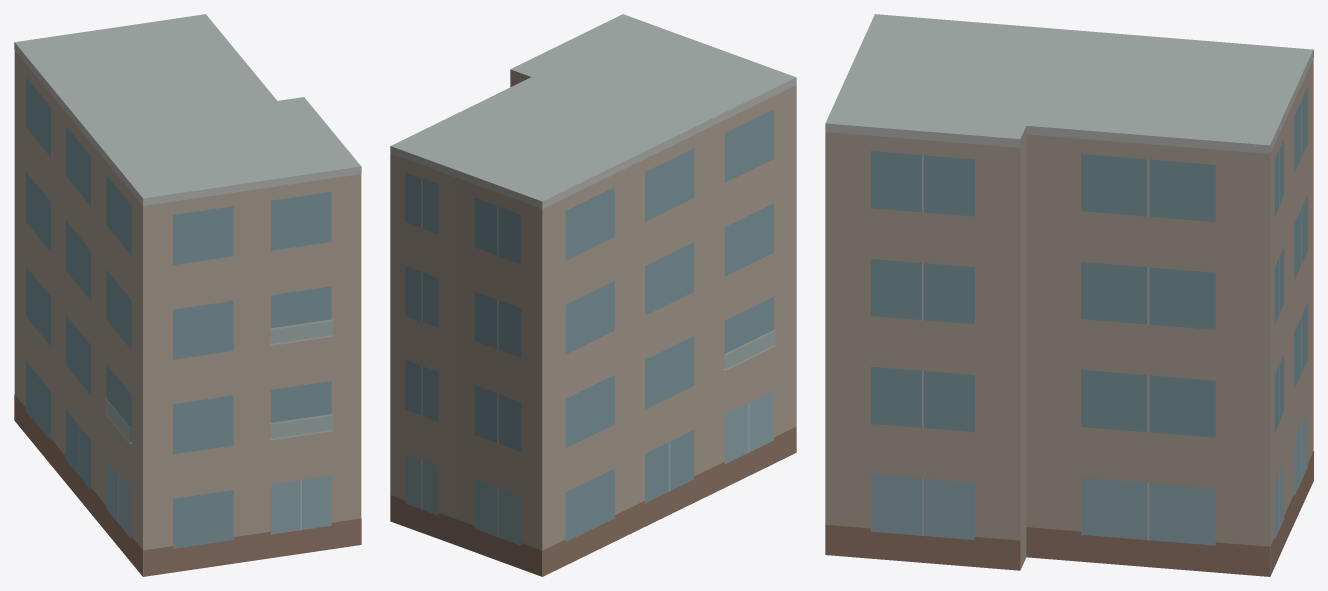
The model's file is residential-3d3bacd2-c39c-469f-9e19-05621e408045.glb.
The picture shows the model from 3 angles, left to right: view 1: azimuth 30°, elevation 25°; view 2: azimuth 150°, elevation 25°; view 3: azimuth 270°, elevation 25°; orthographic projection. The views are drawn at different scales.
Parts seen in each view (by area): view 1: residential-3d3bacd2-c39c-469f-9e19-05621e408045.tmp; view 2: residential-3d3bacd2-c39c-469f-9e19-05621e408045.tmp; view 3: residential-3d3bacd2-c39c-469f-9e19-05621e408045.tmp.
Part boxes in pixels (x1,y1,x2,y2): residential-3d3bacd2-c39c-469f-9e19-05621e408045.tmp: (14,14,361,576); residential-3d3bacd2-c39c-469f-9e19-05621e408045.tmp: (390,14,796,576); residential-3d3bacd2-c39c-469f-9e19-05621e408045.tmp: (825,14,1313,576).
Size of the model in its own units: 7.98 by 12.2 by 12.52.
